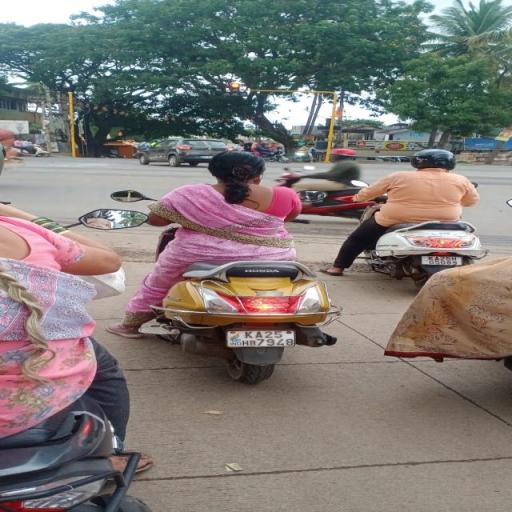bike: (124, 146, 348, 386)
numberplate: (229, 330, 300, 348)
withouthelmet: (212, 152, 264, 182)
